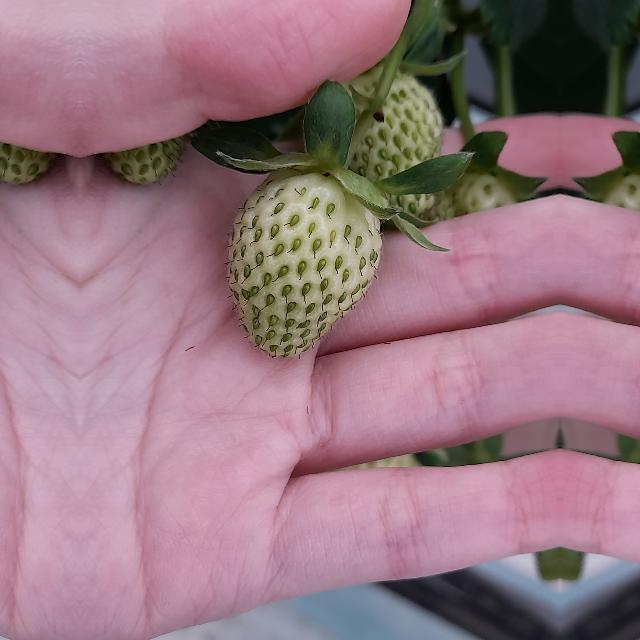Health_25: (226, 167, 382, 357), (334, 75, 438, 225)
